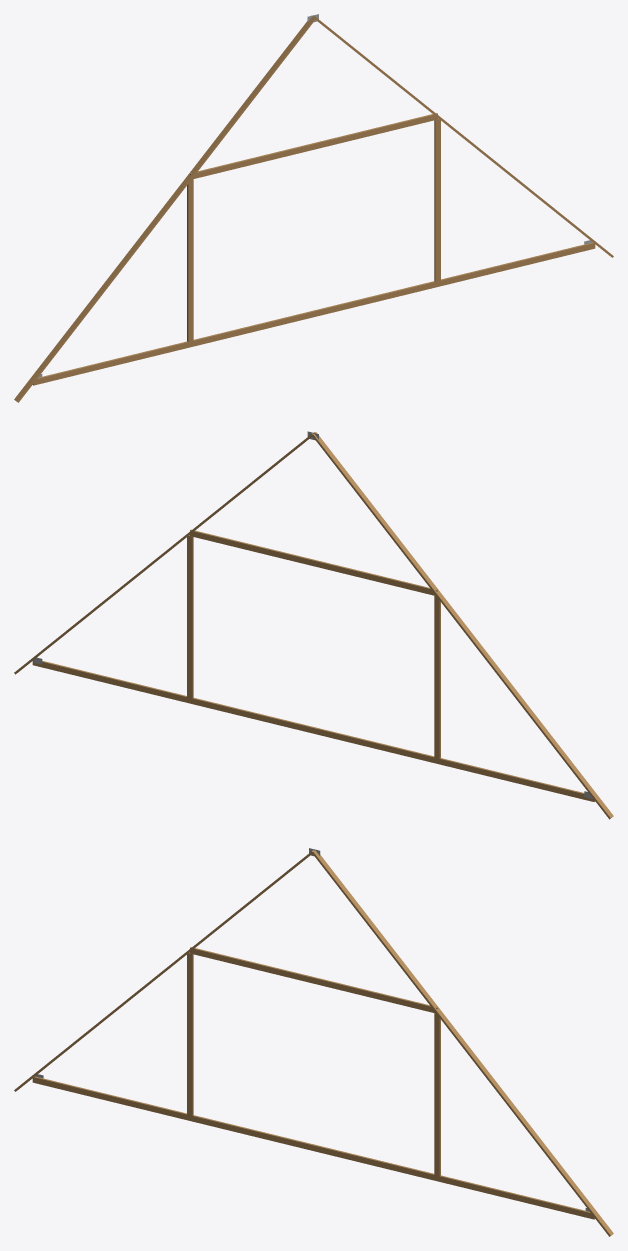
Rendered from structure.truss.attic_10.glb.
3 views of the same model, one above another, from view 1: azimuth 30°, elevation 25°; view 2: azimuth 150°, elevation 25°; view 3: azimuth 330°, elevation 25° (orthographic).
Visible parts, largest first — view 1: truss__softwood; view 2: truss__softwood; view 3: truss__softwood.
Boxes of the visible parts, x1=… form: truss__softwood: x1=14, y1=15, x2=613, y2=402; truss__softwood: x1=14, y1=432, x2=613, y2=819; truss__softwood: x1=14, y1=849, x2=613, y2=1236.
Size of the model in its own units: 10.62 by 5.33 by 0.097.
